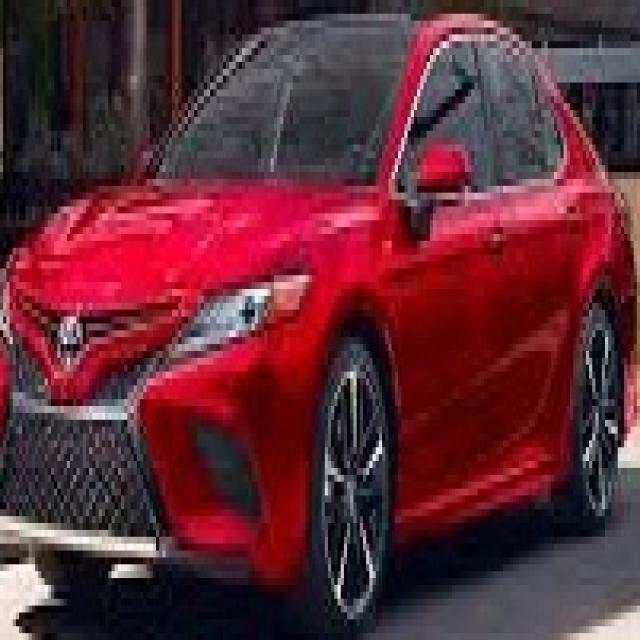red: (12, 5, 638, 545)
